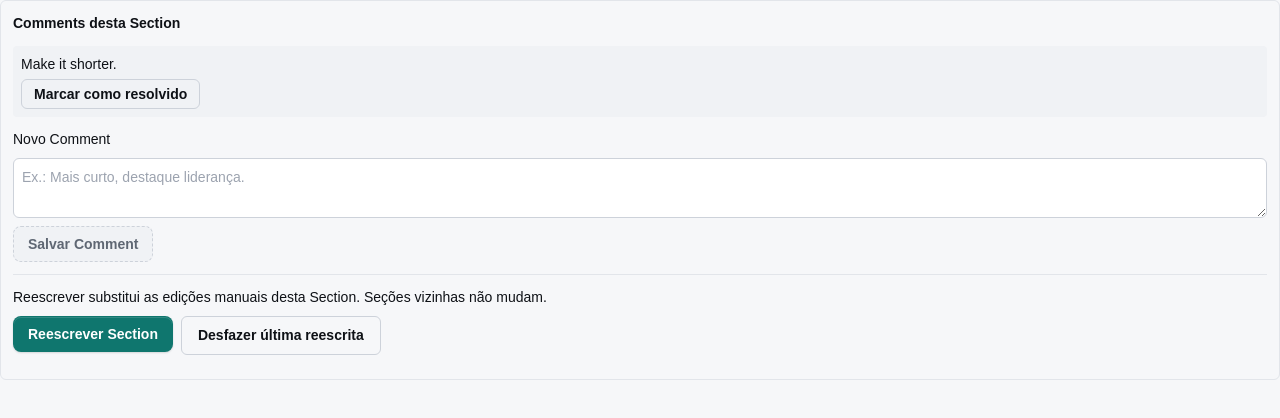
Test case: CommentPanel › should save a comment and keep it for the next rewrites
Type "Highlight leadership." into the text box labelled "Novo Comment" at (640, 188), box [13, 158, 1267, 218]
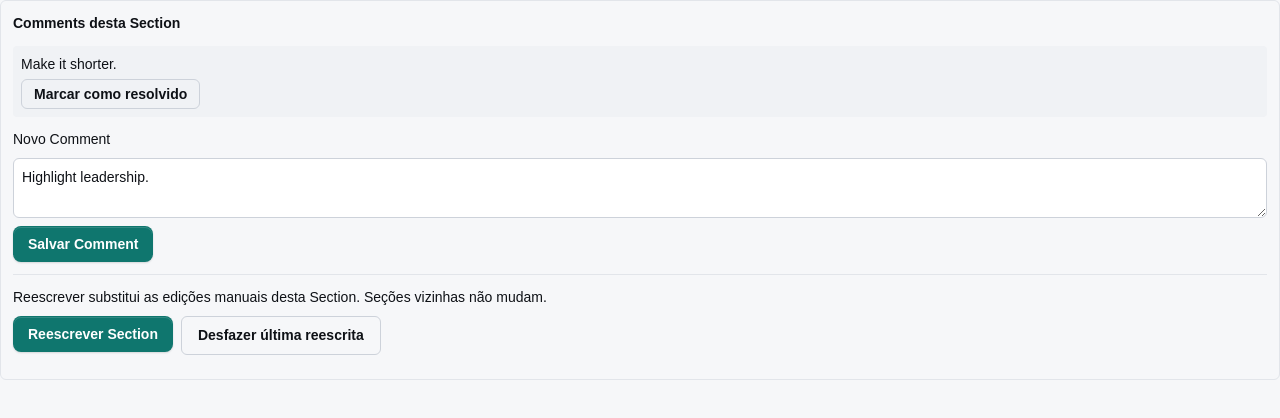
Click the button "Salvar Comment" at (83, 244), box [13, 226, 154, 262]
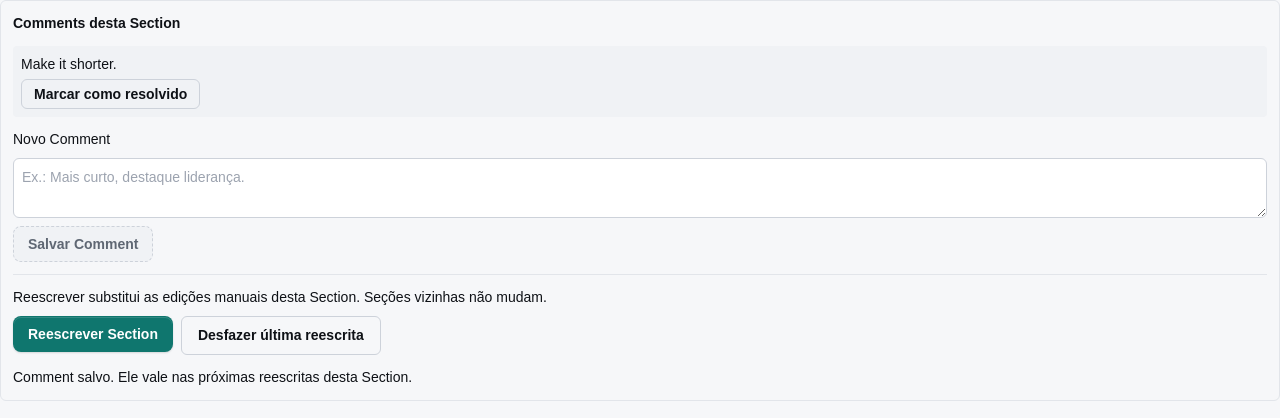
Now the message reads "Comment salvo. Ele vale nas próximas reescritas desta Section.", box [13, 369, 412, 385]
